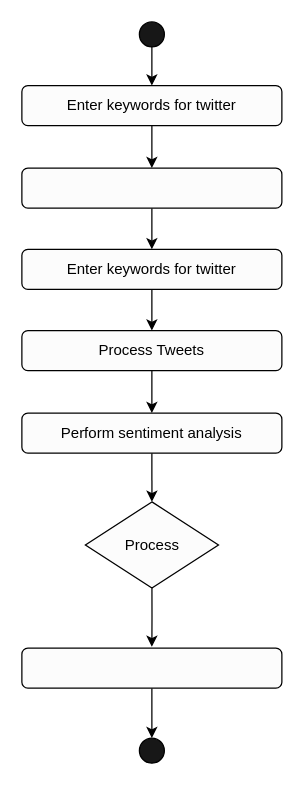
Image size: 304x785. Some labels were removed from this diagram. Each missing label, with the box of its shape:
Display result: (21, 647, 282, 688)
Extract data from Twitter: (21, 167, 282, 208)
